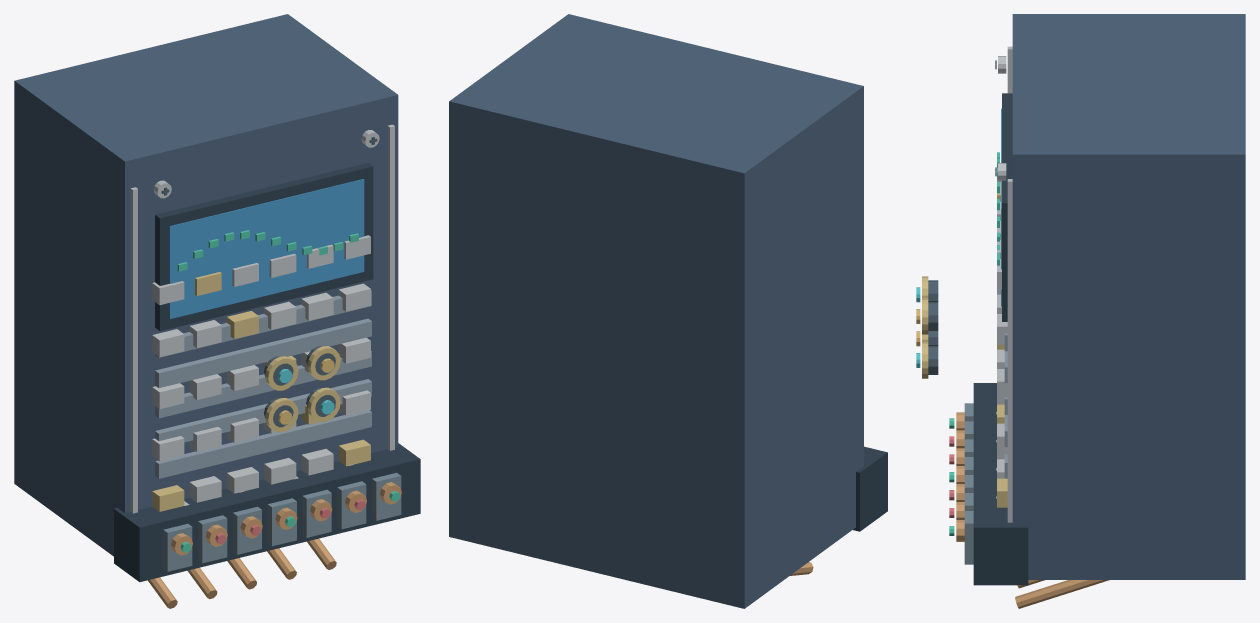
Rendered from 27_L83_PowerConditioningConverterA.glb.
3 renders of one model, left to right at view 1: azimuth 30°, elevation 25°; view 2: azimuth 150°, elevation 25°; view 3: azimuth 270°, elevation 25°, orthographic. The views are drawn at different scales.
Visible parts, largest first — view 1: PowerConditioningConverterA_Node_0000, PowerConditioningConverterA_Node_0008, PowerConditioningConverterA_Node_0046, PowerConditioningConverterA_Node_0007, PowerConditioningConverterA_Node_0024, PowerConditioningConverterA_Node_0021, PowerConditioningConverterA_Node_0005, PowerConditioningConverterA_Node_0006, PowerConditioningConverterA_Node_0022, PowerConditioningConverterA_Node_0023, PowerConditioningConverterA_Node_0025, PowerConditioningConverterA_Node_0059 (+31 smaller); view 2: PowerConditioningConverterA_Node_0000, PowerConditioningConverterA_Node_0046; view 3: PowerConditioningConverterA_Node_0000, PowerConditioningConverterA_Node_0046, PowerConditioningConverterA_Node_0006, PowerConditioningConverterA_Node_0007, PowerConditioningConverterA_Node_0102, PowerConditioningConverterA_Node_0065.
Part boxes in pixels (left/top/right/bottom): PowerConditioningConverterA_Node_0000: left=14, top=14, right=398, bottom=556; PowerConditioningConverterA_Node_0008: left=169, top=179, right=364, bottom=318; PowerConditioningConverterA_Node_0046: left=114, top=443, right=420, bottom=582; PowerConditioningConverterA_Node_0007: left=155, top=163, right=373, bottom=331; PowerConditioningConverterA_Node_0024: left=155, top=318, right=371, bottom=387; PowerConditioningConverterA_Node_0021: left=155, top=410, right=371, bottom=478; PowerConditioningConverterA_Node_0005: left=130, top=187, right=137, bottom=513; PowerConditioningConverterA_Node_0006: left=387, top=124, right=394, bottom=450; PowerConditioningConverterA_Node_0022: left=155, top=379, right=371, bottom=442; PowerConditioningConverterA_Node_0023: left=155, top=351, right=371, bottom=418; PowerConditioningConverterA_Node_0025: left=155, top=290, right=371, bottom=357; PowerConditioningConverterA_Node_0059: left=302, top=489, right=331, bottom=537; PowerConditioningConverterA_Node_0000: left=449, top=14, right=863, bottom=608; PowerConditioningConverterA_Node_0046: left=853, top=446, right=887, bottom=531; PowerConditioningConverterA_Node_0000: left=1012, top=14, right=1245, bottom=579; PowerConditioningConverterA_Node_0046: left=973, top=383, right=1028, bottom=585; PowerConditioningConverterA_Node_0006: left=1007, top=179, right=1012, bottom=522; PowerConditioningConverterA_Node_0007: left=1002, top=93, right=1012, bottom=321; PowerConditioningConverterA_Node_0102: left=1015, top=580, right=1109, bottom=608; PowerConditioningConverterA_Node_0065: left=964, top=511, right=973, bottom=564.
Size of the model in its own units: 1.13 by 1.77 by 1.09.
